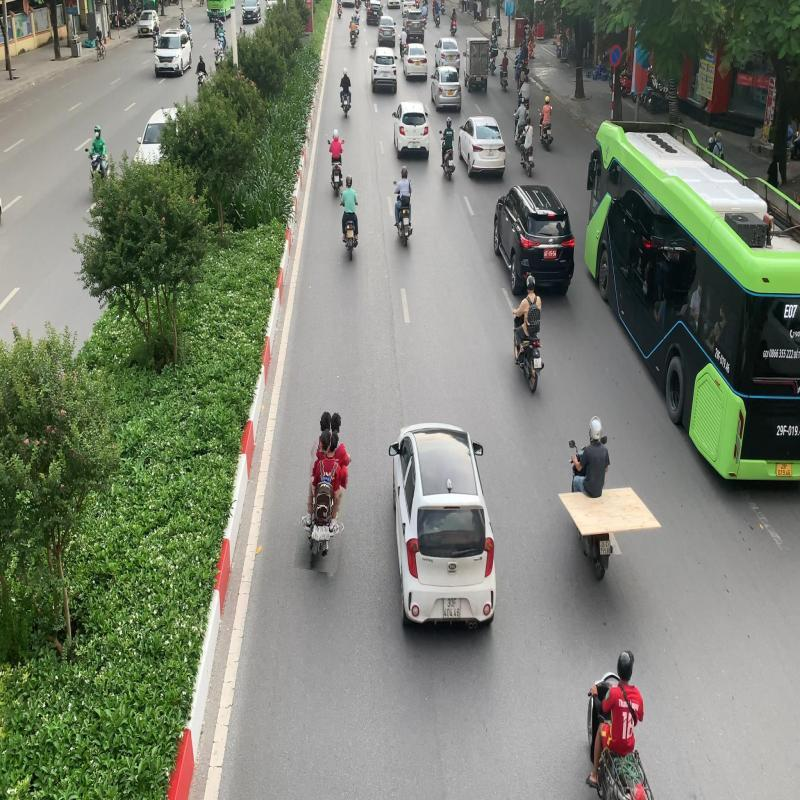licenseplate: (318, 525, 330, 542)
motorcyclist: (298, 407, 352, 572)
nohelmet: (318, 429, 332, 453), (320, 410, 331, 432)
